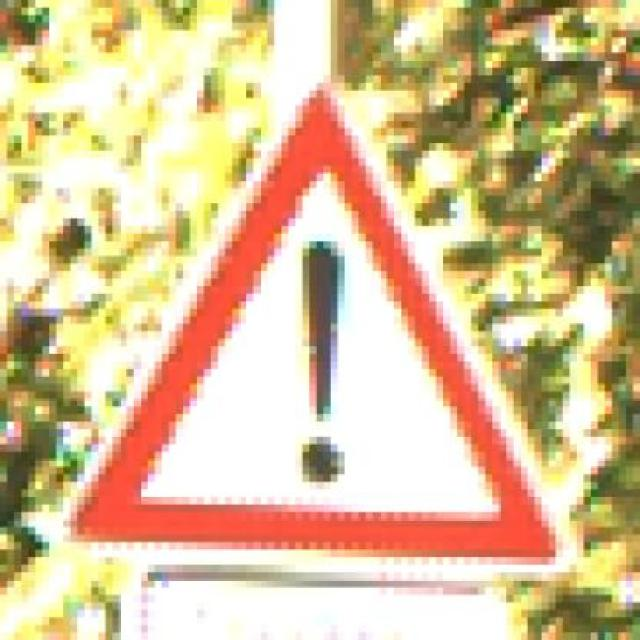Attention Please-: (77, 75, 612, 580)
